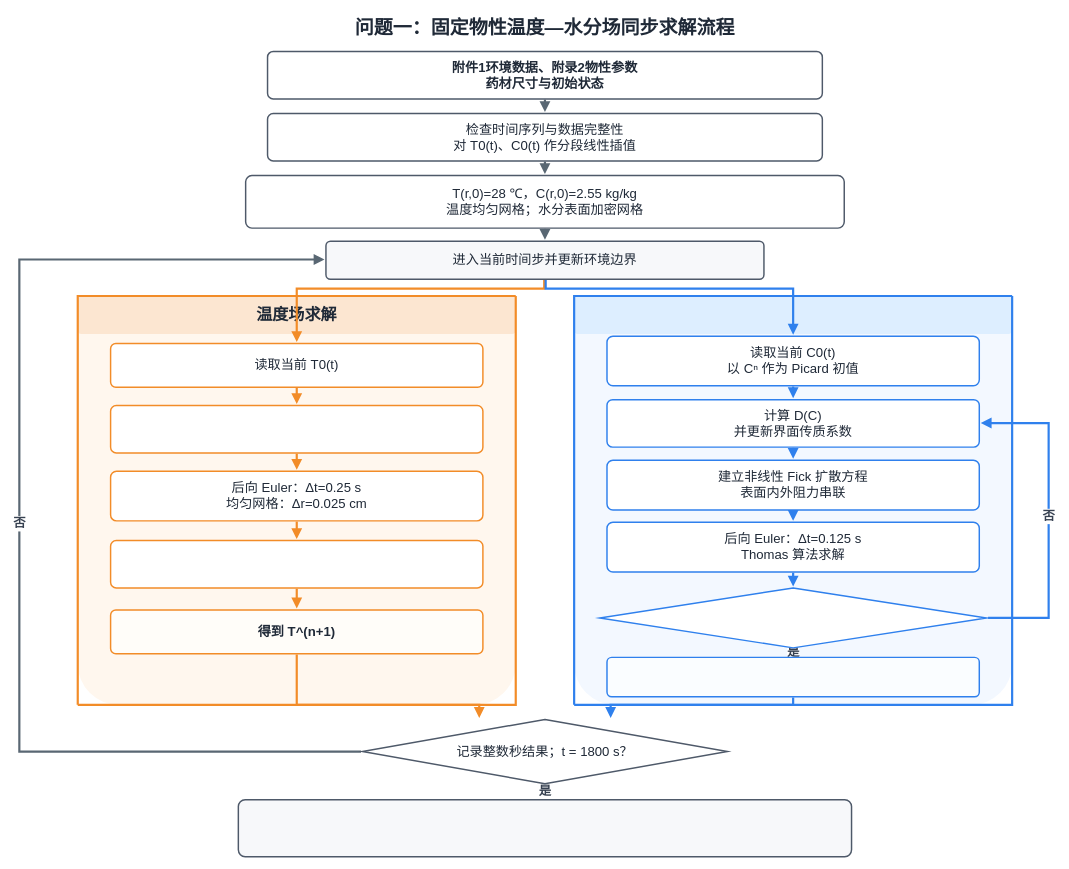
Some shapes in this 1069 by 869 pixel diagram are drawn without their labels. Each missing label, with the centre of its shape:
max|C^(m+1)−C^m| < 10^(-10)？: pixel 793 617
Thomas 算法求解 三对角方程组: pixel 296 563
建立圆柱径向导热 有限体积方程: pixel 296 428
得到 C^(n+1) 并重构表面值: pixel 793 676
插值到 0.1 cm 输出网格，提取表1、表2 生成 result1.xlsx，并进行网格、守恒与物理合理性检查: pixel 544 828
水分场求解: pixel 793 315
